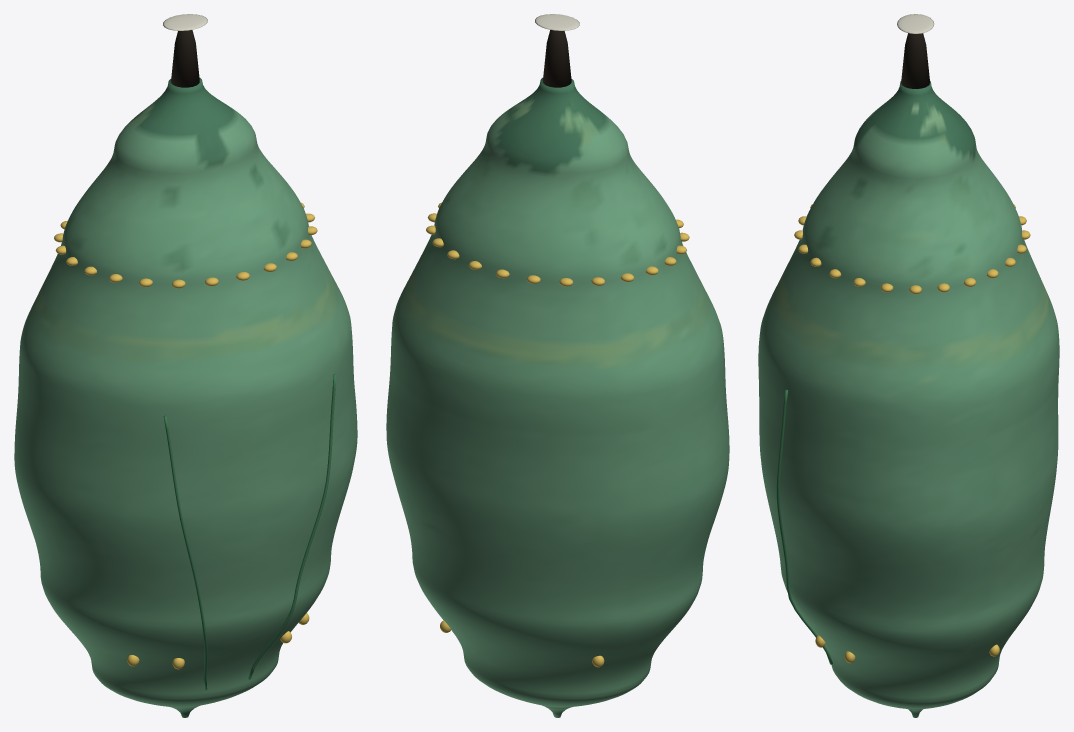
The model's file is monarch_pupa_hybrid.glb.
3 renders of one model, left to right at view 1: azimuth 30°, elevation 25°; view 2: azimuth 150°, elevation 25°; view 3: azimuth 270°, elevation 25°, orthographic.
Visible parts, largest first — view 1: PupaContinuousCuticle, PupaCremaster, PupaWingCaseSeamL, PupaWingCaseSeamR, PupaSilkPad; view 2: PupaContinuousCuticle, PupaCremaster, PupaSilkPad; view 3: PupaContinuousCuticle, PupaCremaster, PupaWingCaseSeamL, PupaSilkPad.
Boxes of the visible parts, x1,y1,x2,y2 form: PupaContinuousCuticle: [14, 77, 357, 717]; PupaCremaster: [171, 30, 199, 87]; PupaWingCaseSeamL: [248, 374, 336, 679]; PupaWingCaseSeamR: [163, 415, 207, 690]; PupaSilkPad: [163, 14, 207, 30]; PupaContinuousCuticle: [386, 77, 729, 717]; PupaCremaster: [543, 30, 571, 87]; PupaSilkPad: [535, 14, 579, 30]; PupaContinuousCuticle: [758, 81, 1059, 717]; PupaCremaster: [901, 33, 930, 88]; PupaWingCaseSeamL: [776, 389, 832, 664]; PupaSilkPad: [897, 14, 934, 33].
Size of the model in its own units: 0.0128 by 0.0274 by 0.0108.
